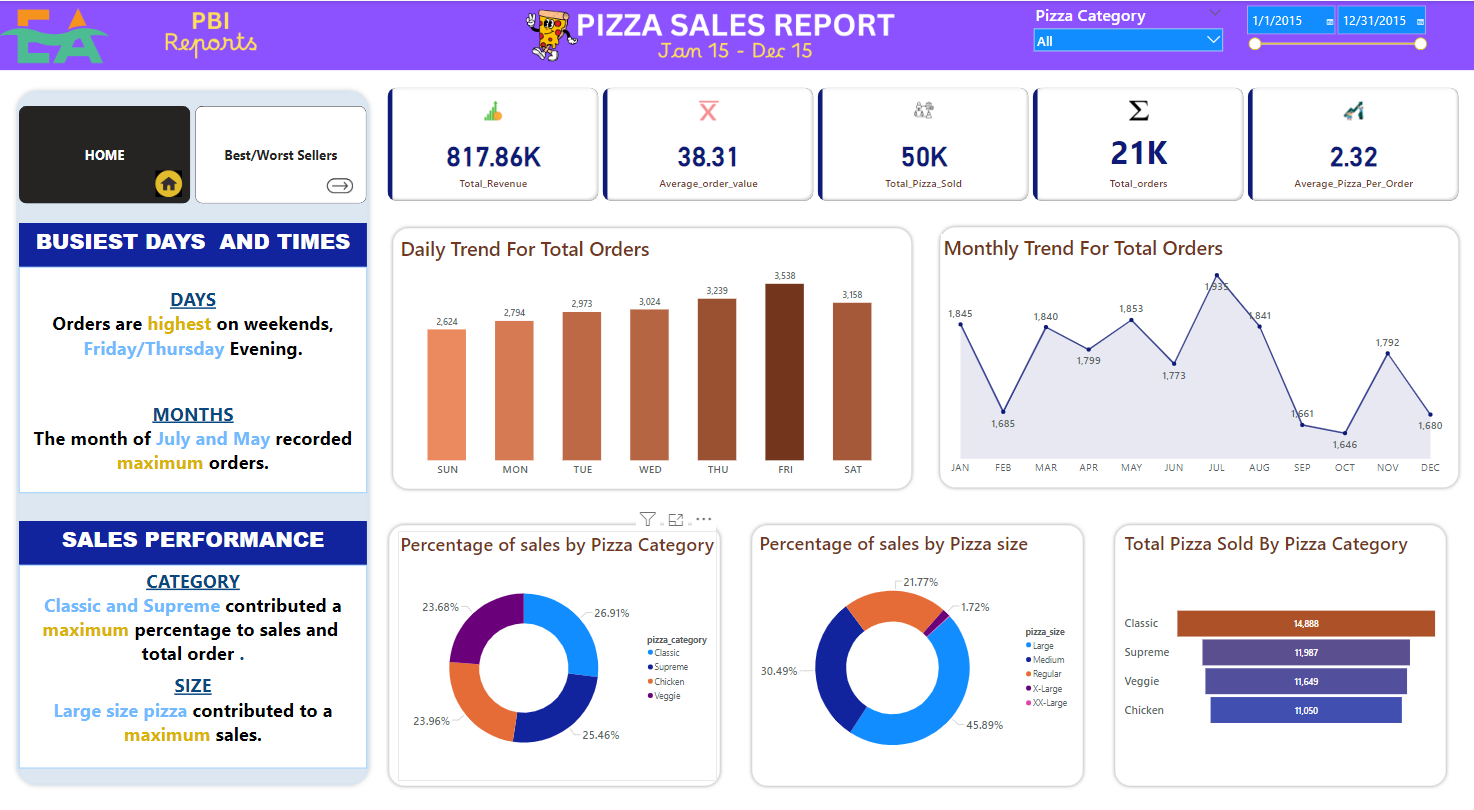

Layout of this report page (visuals, bound fields, positions):
{"tool":"powerbi","page":{"name":"HOME","canvas":[3000,1650],"ordinal":0},"visuals":[{"type":"cardVisual","fields":{"Data":["pizza_sales.Total_Revenue","pizza_sales.Average_order_value","pizza_sales.Total_Pizza_Sold","pizza_sales.Total_orders","pizza_sales.Average_Pizza_Per_Order"]},"box":[784.4,170.7,2190.5,241.8],"z":0},{"type":"shape","box":[792.5,453.1,1070,546.6],"z":1000},{"type":"columnChart","title":"Daily Trend For Total Orders","fields":{"Category":["pizza_sales.Order_day"],"Y":["pizza_sales.Total_orders"]},"box":[810.8,475.5,1026.2,499.9],"z":2000},{"type":"shape","box":[1903.1,452.1,1070,546],"z":3000},{"type":"areaChart","title":"Monthly Trend For Total Orders","fields":{"Category":["pizza_sales.Order_month"],"Y":["pizza_sales.Total_orders"]},"box":[1914.3,473.6,1034.3,497.8],"z":4000},{"type":"shape","box":[784.4,1056.7,688.9,546.6],"z":5000},{"type":"shape","box":[1522,1056.7,688.9,546.6],"z":5001},{"type":"shape","box":[2259.6,1056.7,688.9,546.6],"z":5002},{"type":"donutChart","title":"Percentage of sales by Pizza Category","fields":{"Category":["pizza_sales.pizza_category"],"Y":["pizza_sales.Total_Revenue"]},"box":[810.8,1077,648.2,508],"z":5003},{"type":"donutChart","title":"Percentage of sales by Pizza size","fields":{"Category":["pizza_sales.pizza_size"],"Y":["pizza_sales.Total_Revenue"]},"box":[1540.2,1074.7,649.4,511.5],"z":5004},{"type":"funnel","title":"Total Pizza Sold By Pizza Category","fields":{"Y":["pizza_sales.Total_Pizza_Sold"],"Category":["pizza_sales.pizza_category"]},"box":[2282,1074.9,646.2,506],"z":5005},{"type":"shape","box":[26.4,172.7,735.6,1430.5],"z":5006},{"type":"textbox","box":[40.6,451.1,707.1,89.4],"z":5007},{"type":"textbox","box":[40.6,1056.7,707.1,89.4],"z":5008},{"type":"textbox","box":[40.6,1146.1,707.1,412.5],"z":5009},{"type":"textbox","box":[40.6,540.5,707.1,459.2],"z":5010},{"type":"slicer","fields":{"Values":["pizza_sales.pizza_category"]},"box":[2093,0,404.4,132.1],"z":5011},{"type":"slicer","fields":{"Values":["pizza_sales.order_date"]},"box":[2523.8,0,386.1,132.1],"z":5012},{"type":"pageNavigator","box":[41,214.3,706.7,198.3],"z":5013},{"type":"image","box":[661.1,337.4,63.8,75.2],"z":5015},{"type":"image","box":[312.3,337.4,63.8,68.4],"z":5016}]}

Visuals, with their boxes in screenshot pixels (x1, y1, x2, y2), scaled from the page's 3000x1650 canvas onto the 1474x810 screenshot:
cardVisual - pizza_sales.Total_Revenue x pizza_sales.Average_order_value: BBox(385, 84, 1462, 202)
shape: BBox(389, 222, 915, 491)
"Daily Trend For Total Orders" columnChart: BBox(398, 233, 903, 479)
shape: BBox(935, 222, 1461, 490)
"Monthly Trend For Total Orders" areaChart: BBox(941, 232, 1449, 477)
shape: BBox(385, 519, 724, 787)
shape: BBox(748, 519, 1086, 787)
shape: BBox(1110, 519, 1449, 787)
"Percentage of sales by Pizza Category" donutChart: BBox(398, 529, 717, 778)
"Percentage of sales by Pizza size" donutChart: BBox(757, 528, 1076, 779)
"Total Pizza Sold By Pizza Category" funnel: BBox(1121, 528, 1439, 776)
shape: BBox(13, 85, 374, 787)
textbox: BBox(20, 221, 367, 265)
textbox: BBox(20, 519, 367, 563)
textbox: BBox(20, 563, 367, 765)
textbox: BBox(20, 265, 367, 491)
slicer - pizza_sales.pizza_category: BBox(1028, 0, 1227, 65)
slicer - pizza_sales.order_date: BBox(1240, 0, 1430, 65)
pageNavigator: BBox(20, 105, 367, 203)
image: BBox(325, 166, 356, 203)
image: BBox(153, 166, 185, 199)
